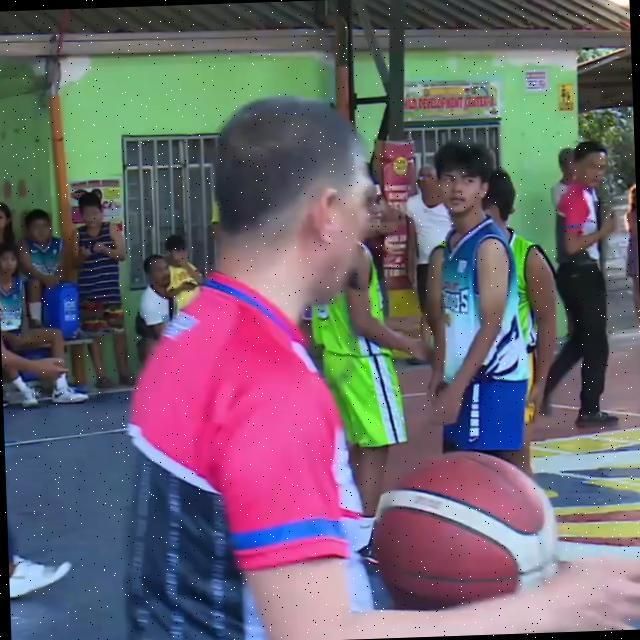ball: (340, 425, 584, 639)
